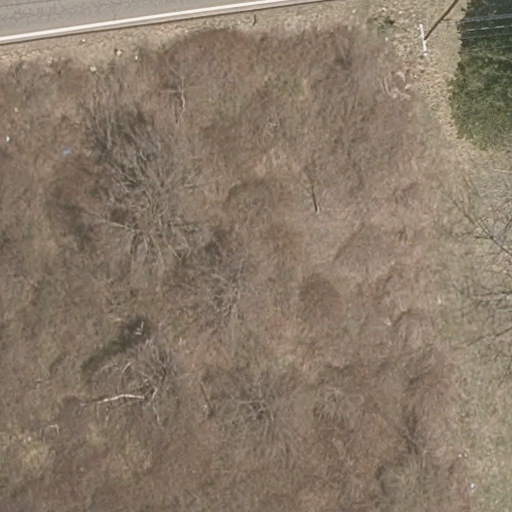DT: (419, 1, 457, 55)
